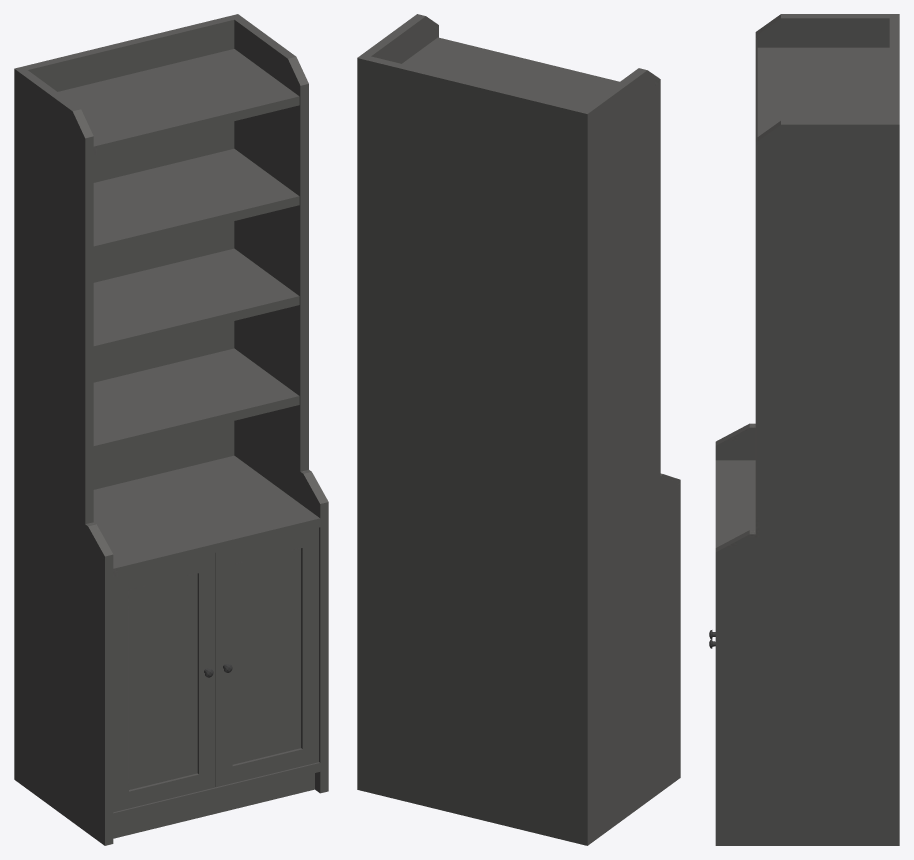
File: Hauga.glb
The picture shows the model from 3 angles, left to right: view 1: azimuth 30°, elevation 25°; view 2: azimuth 150°, elevation 25°; view 3: azimuth 270°, elevation 25°; orthographic projection. The views are drawn at different scales.
Visible parts, largest first — view 1: Hauga; view 2: Hauga; view 3: Hauga.
Part boxes in pixels (left/top/right/bottom): Hauga: left=14, top=14, right=328, bottom=845; Hauga: left=357, top=14, right=680, bottom=845; Hauga: left=709, top=14, right=899, bottom=845.
Size of the model in its own units: 0.6555 by 1.99 by 0.4752.
2 materials, 2 textured.
